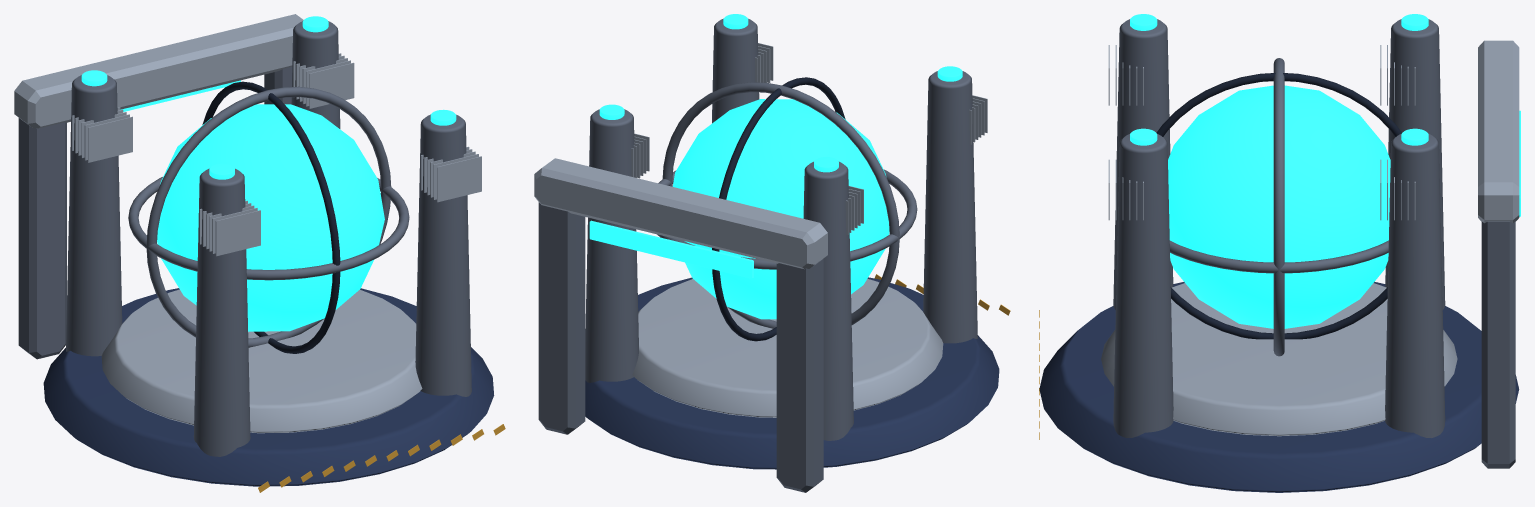
Rendered from shared_core.glb.
3 renders of one model, left to right at view 1: azimuth 30°, elevation 25°; view 2: azimuth 150°, elevation 25°; view 3: azimuth 270°, elevation 25°, orthographic. The views are drawn at different scales.
Parts seen in each view (by area): view 1: core_sphere, core_plinth, core_plinth_step, core_gate_lintel, core_stack1, core_stack0, core_stack2, core_gate_post-1, core_cage_ring_b, core_cage_ring_a, core_cage_ring_c, core_stack_fins1 (+6 smaller); view 2: core_plinth_step, core_plinth, core_sphere, core_gate_lintel, core_stack1, core_gate_post-1, core_gate_post1, core_stack3, core_stack2, core_cage_ring_b, core_stack0, core_gate_sign (+6 smaller); view 3: core_sphere, core_plinth, core_plinth_step, core_stack0, core_stack3, core_gate_post1, core_gate_lintel, core_stack2, core_stack1, core_cage_ring_c, core_cage_ring_b, core_cage_ring_a (+2 smaller).
Part boxes in pixels (bbox=[...]): core_sphere: bbox=[157, 104, 384, 331]; core_plinth: bbox=[43, 288, 494, 486]; core_plinth_step: bbox=[101, 289, 422, 433]; core_gate_lintel: bbox=[14, 14, 303, 128]; core_stack1: bbox=[193, 168, 250, 456]; core_stack0: bbox=[415, 114, 471, 396]; core_stack2: bbox=[66, 75, 122, 356]; core_gate_post-1: bbox=[18, 118, 66, 359]; core_cage_ring_b: bbox=[146, 86, 391, 347]; core_cage_ring_a: bbox=[128, 177, 409, 280]; core_cage_ring_c: bbox=[202, 81, 340, 353]; core_stack_fins1: bbox=[199, 200, 260, 256]; core_plinth_step: bbox=[632, 278, 943, 417]; core_plinth: bbox=[585, 277, 999, 469]; core_sphere: bbox=[672, 99, 889, 319]; core_gate_lintel: bbox=[534, 158, 827, 269]; core_stack1: bbox=[923, 71, 977, 343]; core_gate_post-1: bbox=[776, 259, 823, 492]; core_gate_post1: bbox=[538, 202, 585, 434]; core_stack3: bbox=[585, 109, 638, 382]; core_stack2: bbox=[803, 161, 853, 440]; core_cage_ring_b: bbox=[662, 82, 899, 328]; core_stack0: bbox=[712, 18, 759, 123]; core_gate_sign: bbox=[589, 220, 753, 278]; core_sphere: bbox=[1168, 85, 1390, 328]; core_plinth: bbox=[1039, 281, 1519, 492]; core_plinth_step: bbox=[1101, 283, 1457, 436]; core_stack0: bbox=[1113, 134, 1173, 437]; core_stack3: bbox=[1385, 134, 1445, 437]; core_gate_post1: bbox=[1481, 221, 1515, 468]; core_gate_lintel: bbox=[1478, 40, 1519, 223]; core_stack2: bbox=[1385, 19, 1445, 309]; core_stack1: bbox=[1113, 19, 1173, 309]; core_cage_ring_c: bbox=[1156, 73, 1401, 339]; core_cage_ring_b: bbox=[1273, 58, 1284, 356]; core_cage_ring_a: bbox=[1169, 240, 1388, 273].
Size of the model in its own units: 7 by 5.27 by 7.03.
